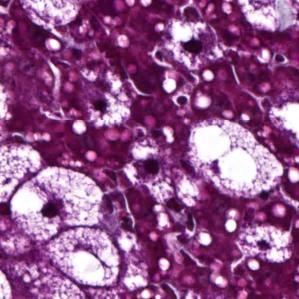ballooning: (187, 118, 287, 203), (6, 163, 106, 243), (44, 224, 127, 288)
